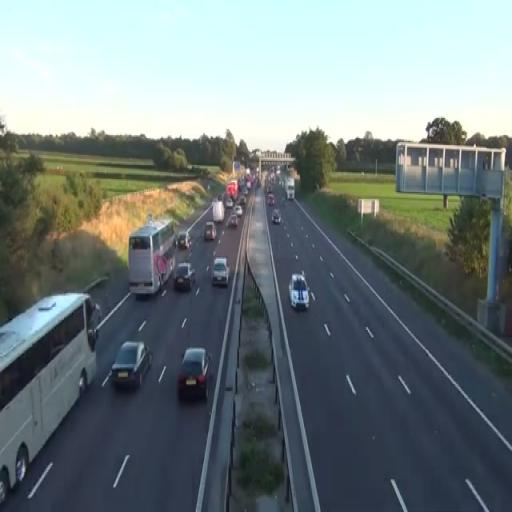Bus: (0, 290, 98, 504), (128, 214, 178, 298)
Car: (110, 340, 153, 391), (178, 346, 212, 402), (288, 272, 310, 311), (173, 262, 196, 291), (211, 256, 230, 286), (204, 221, 216, 241), (272, 209, 281, 225)
